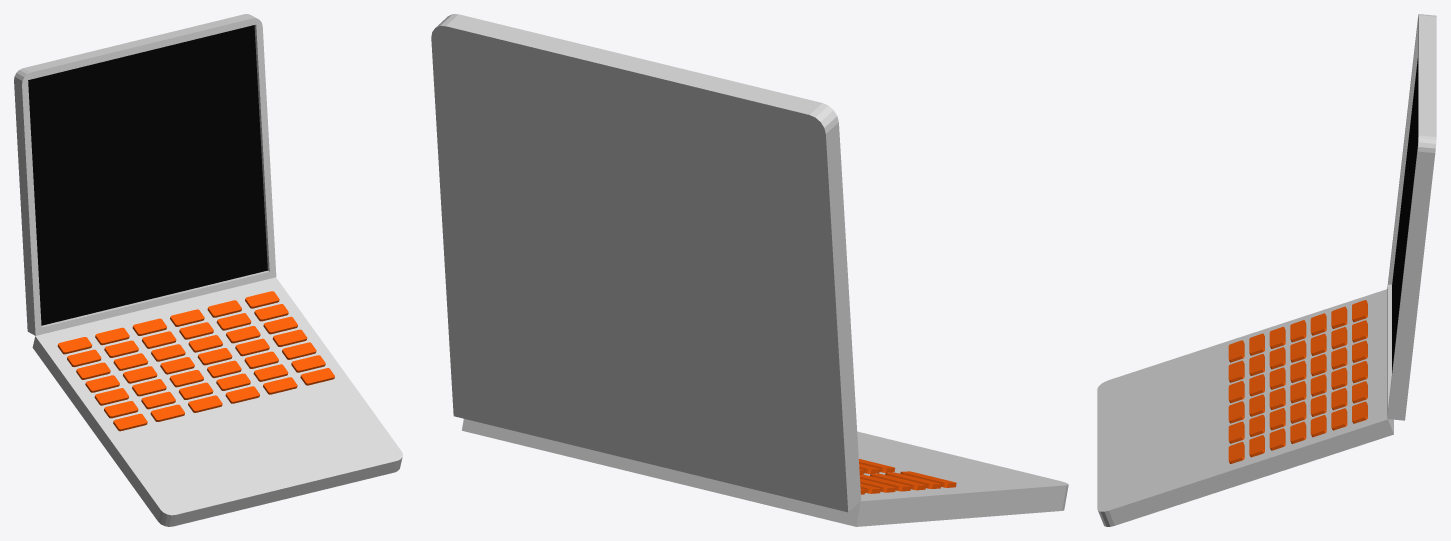
Rendered from Laptop.glb.
3 views of the same model, side by side, from view 1: azimuth 30°, elevation 25°; view 2: azimuth 150°, elevation 25°; view 3: azimuth 270°, elevation 25° (orthographic). The views are drawn at different scales.
Parts seen in each view (by area): view 1: Cube.006, Cube.003, Cube.005, Cube.004; view 2: Cube.004, Cube.003, Cube.005; view 3: Cube.003, Cube.005, Cube.004, Cube.006.
Part boxes in pixels (box(x1,y1,x2,y2)): Cube.006: box(28, 25, 267, 325); Cube.003: box(32, 277, 402, 526); Cube.005: box(57, 291, 334, 431); Cube.004: box(14, 14, 276, 335); Cube.004: box(431, 14, 861, 512); Cube.003: box(462, 419, 1068, 526); Cube.005: box(859, 459, 956, 494); Cube.003: box(1097, 289, 1393, 526); Cube.005: box(1228, 300, 1367, 463); Cube.004: box(1387, 14, 1436, 420); Cube.006: box(1392, 58, 1417, 372).
Size of the model in its own units: 0.629 by 0.874 by 0.6907.
